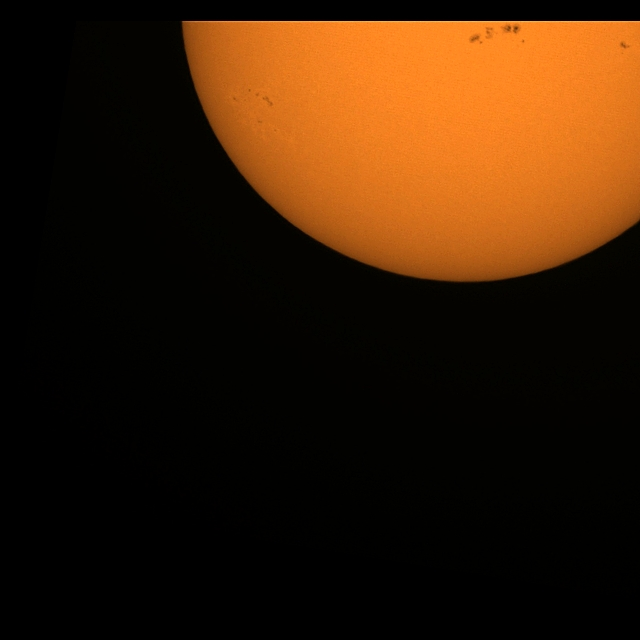sunspot: (466, 23, 522, 45), (490, 22, 524, 39), (253, 90, 274, 106), (468, 30, 486, 45), (618, 41, 630, 50), (520, 39, 526, 44), (256, 120, 262, 125)
